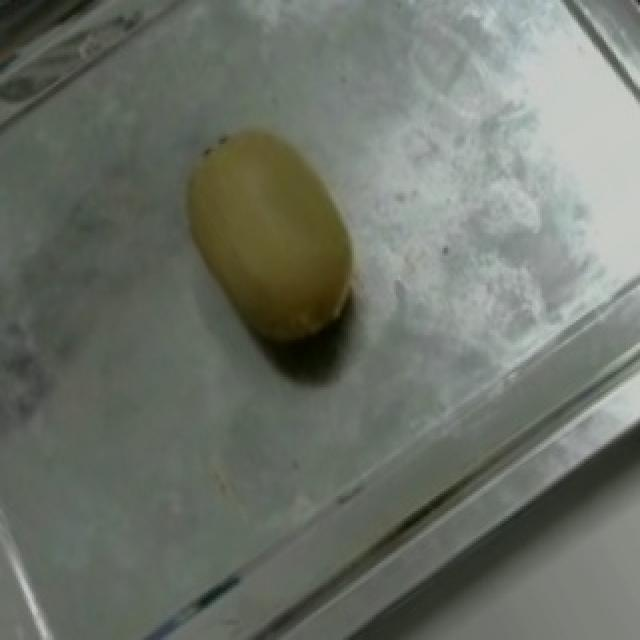Fruit: (142, 99, 396, 385)
